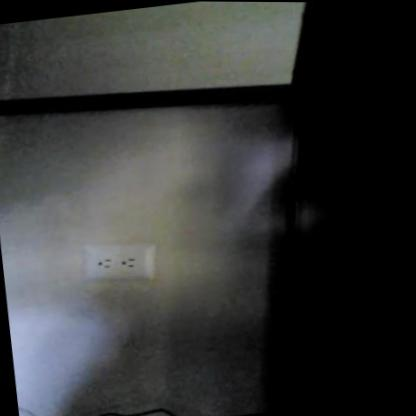OUTLET: (77, 235, 160, 288)
